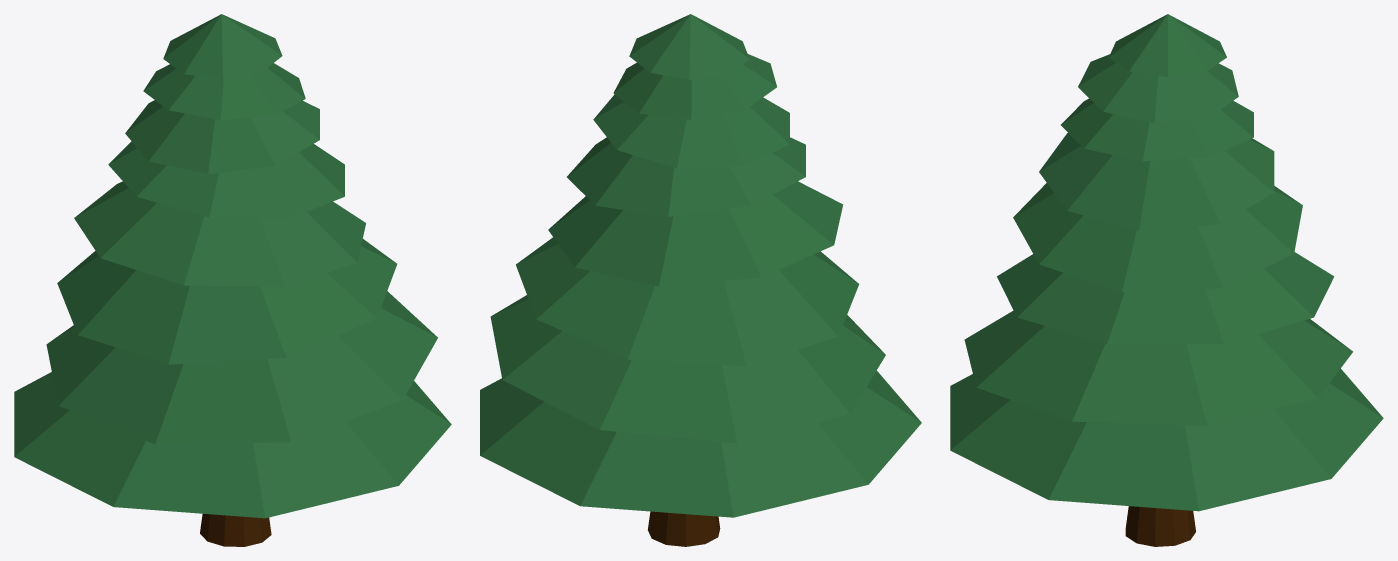
Rendered from spruce_tree_variant1.fbx.
3 views of the same model, side by side, from view 1: azimuth 30°, elevation 25°; view 2: azimuth 150°, elevation 25°; view 3: azimuth 270°, elevation 25° (orthographic).
Visible parts, largest first — view 1: Cone, Cone.001, Cone.002, Cone.003, Cone.004, Cone.005, Cone.006, Cone.007, Cylinder; view 2: Cone, Cone.001, Cone.002, Cone.003, Cone.004, Cone.005, Cone.006, Cone.007, Cylinder; view 3: Cone, Cone.001, Cone.002, Cone.003, Cone.004, Cone.005, Cone.006, Cone.007, Cylinder.
Part boxes in pixels (x1,y1,x2,y2): Cone: (14, 372, 451, 518); Cone.001: (46, 291, 437, 444); Cone.002: (57, 239, 397, 364); Cone.003: (74, 181, 365, 287); Cone.004: (108, 141, 344, 217); Cone.005: (125, 100, 319, 173); Cone.006: (143, 63, 305, 119); Cone.007: (163, 14, 282, 79); Cylinder: (200, 513, 271, 546); Cone: (480, 370, 921, 517); Cone.001: (490, 295, 885, 443); Cone.002: (516, 237, 859, 366); Cone.003: (548, 181, 843, 286); Cone.004: (567, 137, 805, 216); Cone.005: (593, 94, 789, 168); Cone.006: (613, 54, 776, 119); Cone.007: (629, 14, 749, 79); Cylinder: (648, 511, 720, 546); Cone: (950, 368, 1383, 511); Cone.001: (964, 310, 1352, 425); Cone.002: (997, 252, 1334, 344); Cone.003: (1013, 183, 1302, 292); Cone.004: (1039, 133, 1274, 231); Cone.005: (1061, 98, 1253, 161); Cone.006: (1078, 54, 1238, 123); Cone.007: (1109, 14, 1226, 76); Cylinder: (1125, 506, 1195, 546).
Bounding box in the file's own units: 396 × 510 × 390.
